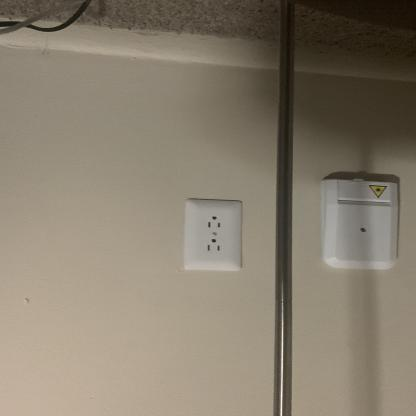OUTLET: (182, 198, 244, 271)
